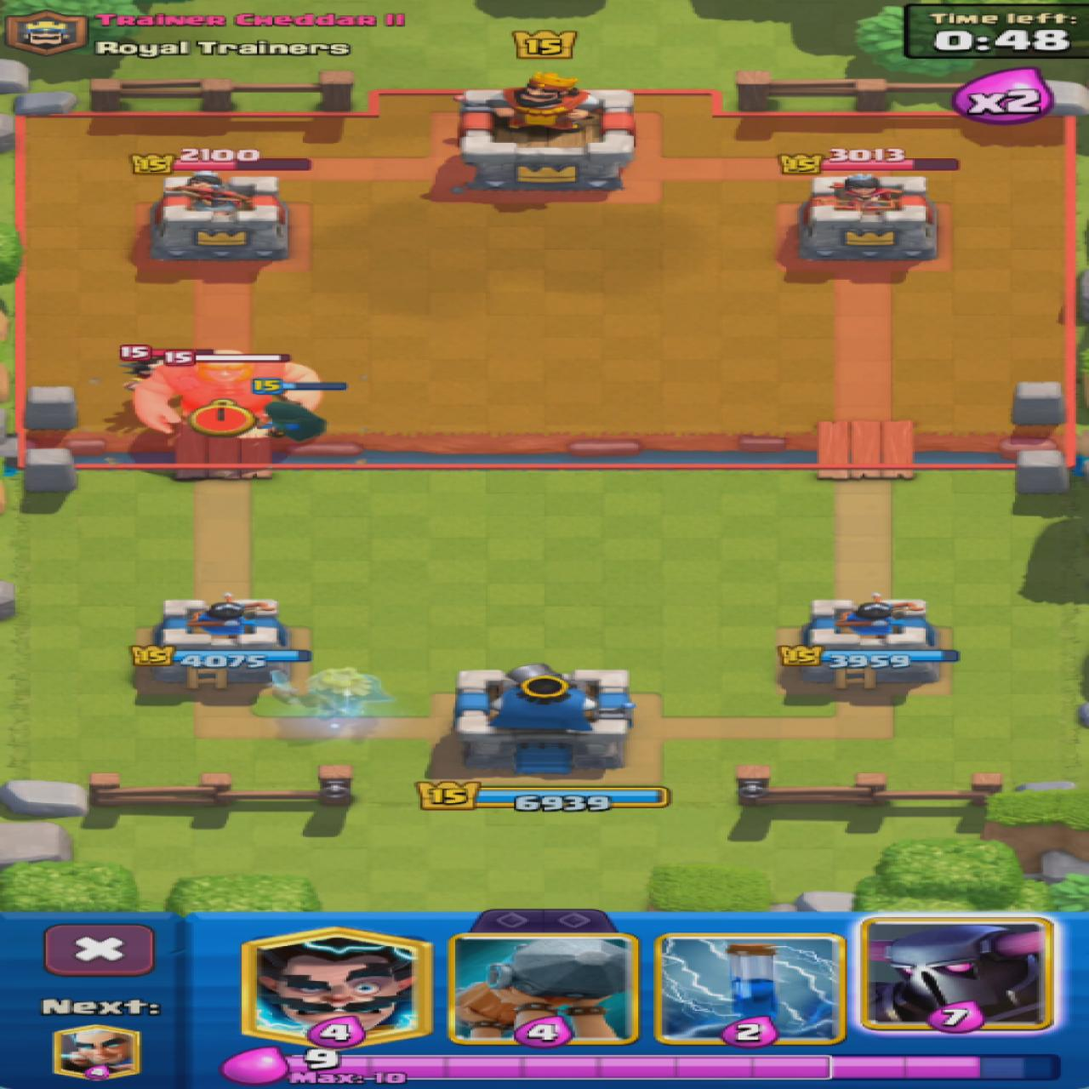Enemy-ElectroWizard: (122, 360, 159, 389)
Enemy-Giant: (135, 367, 268, 432), (274, 364, 314, 380), (290, 392, 316, 408)
Enemy-KingTower: (460, 73, 634, 192)
Enemy-PrincessTower: (150, 173, 290, 262), (799, 175, 937, 262)
